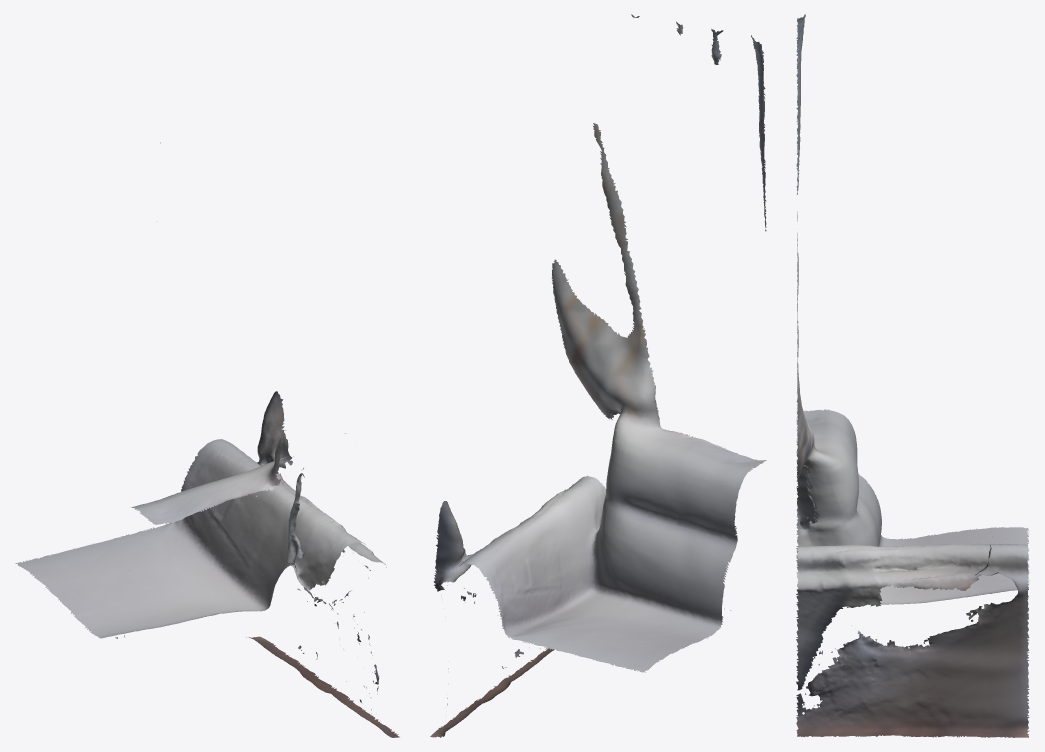
File: apartment-full-94-13999ce6d5db.glb
3 renders of one model, left to right at view 1: azimuth 30°, elevation 25°; view 2: azimuth 150°, elevation 25°; view 3: azimuth 270°, elevation 25°, orthographic. The views are drawn at different scales.
Bounding box in the file's own units: 0.814 × 2.36 × 0.8.
